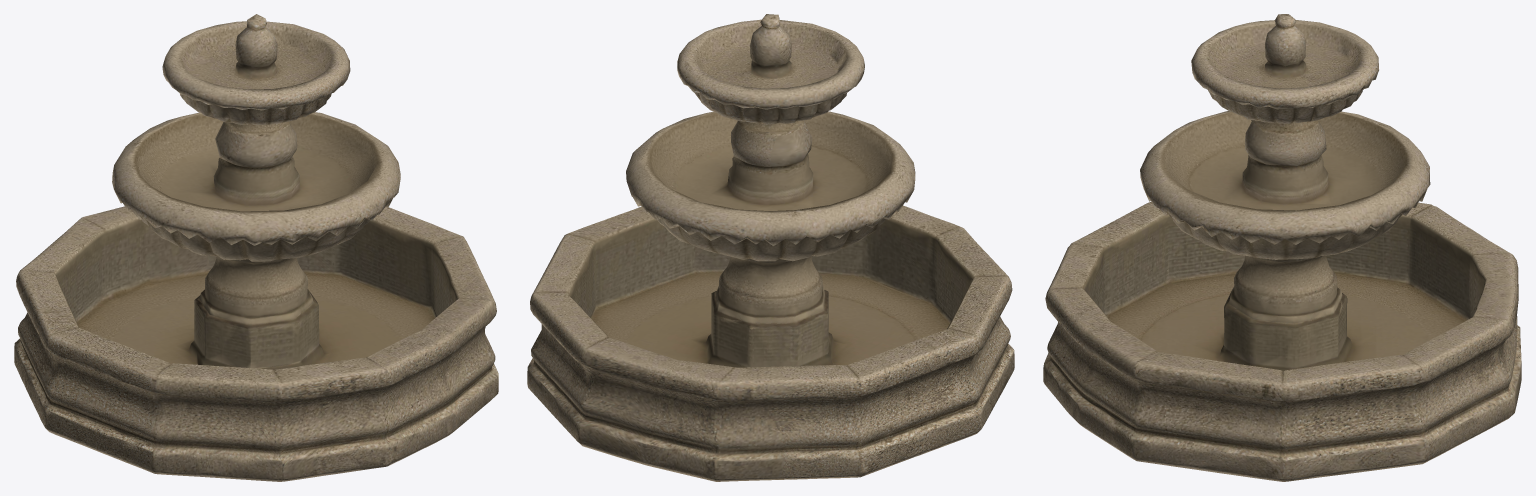
The model's file is fountain.glb.
3 views of the same model, side by side, from view 1: azimuth 30°, elevation 25°; view 2: azimuth 150°, elevation 25°; view 3: azimuth 270°, elevation 25° (orthographic).
Visible parts, largest first — view 1: tripo_node_9220865f-5ed6-4fa0-b03b-5d19bbc997e1; view 2: tripo_node_9220865f-5ed6-4fa0-b03b-5d19bbc997e1; view 3: tripo_node_9220865f-5ed6-4fa0-b03b-5d19bbc997e1.
Boxes of the visible parts, x1,y1,x2,y2 form: tripo_node_9220865f-5ed6-4fa0-b03b-5d19bbc997e1: (14, 14, 498, 481); tripo_node_9220865f-5ed6-4fa0-b03b-5d19bbc997e1: (527, 14, 1014, 481); tripo_node_9220865f-5ed6-4fa0-b03b-5d19bbc997e1: (1043, 14, 1521, 481).
Size of the model in its own units: 1.32 by 1.1 by 1.3.
1 material, 1 textured.
